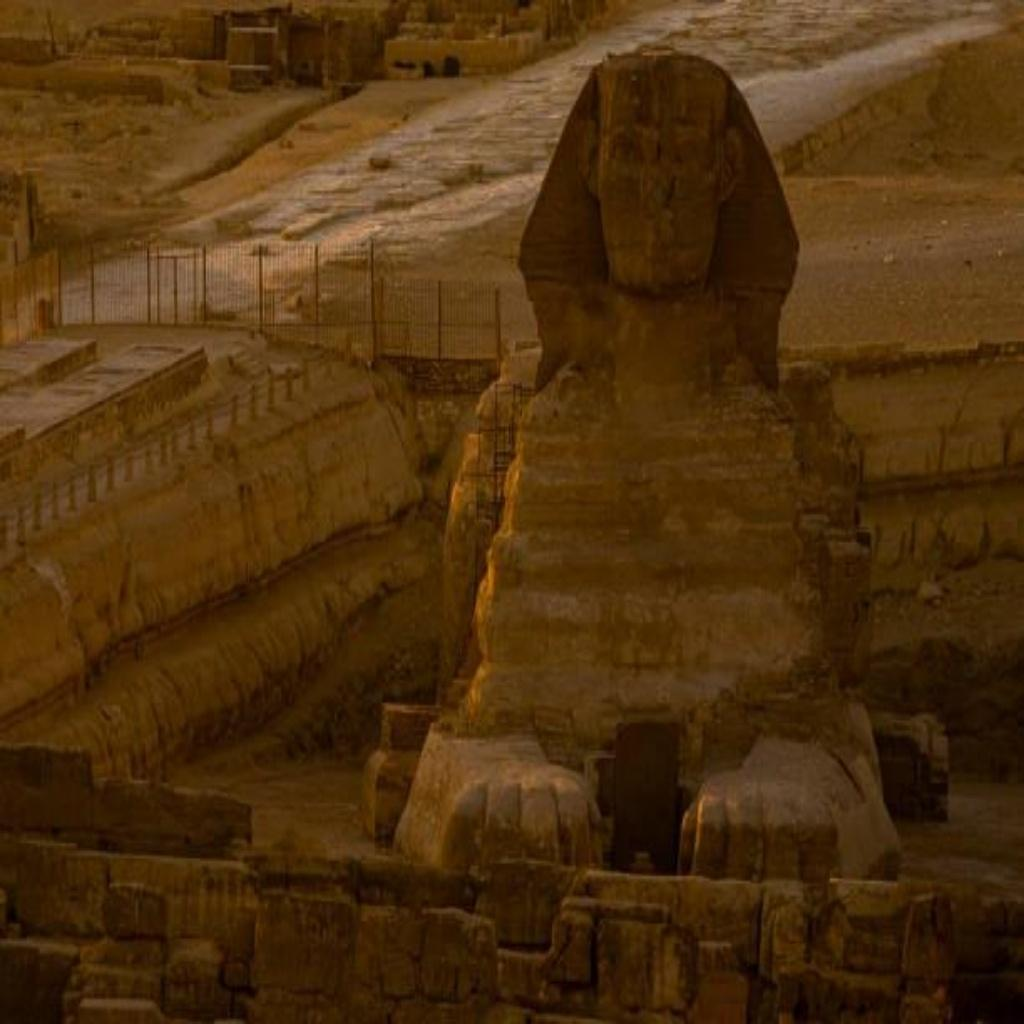Sphinx: (364, 40, 904, 881)
